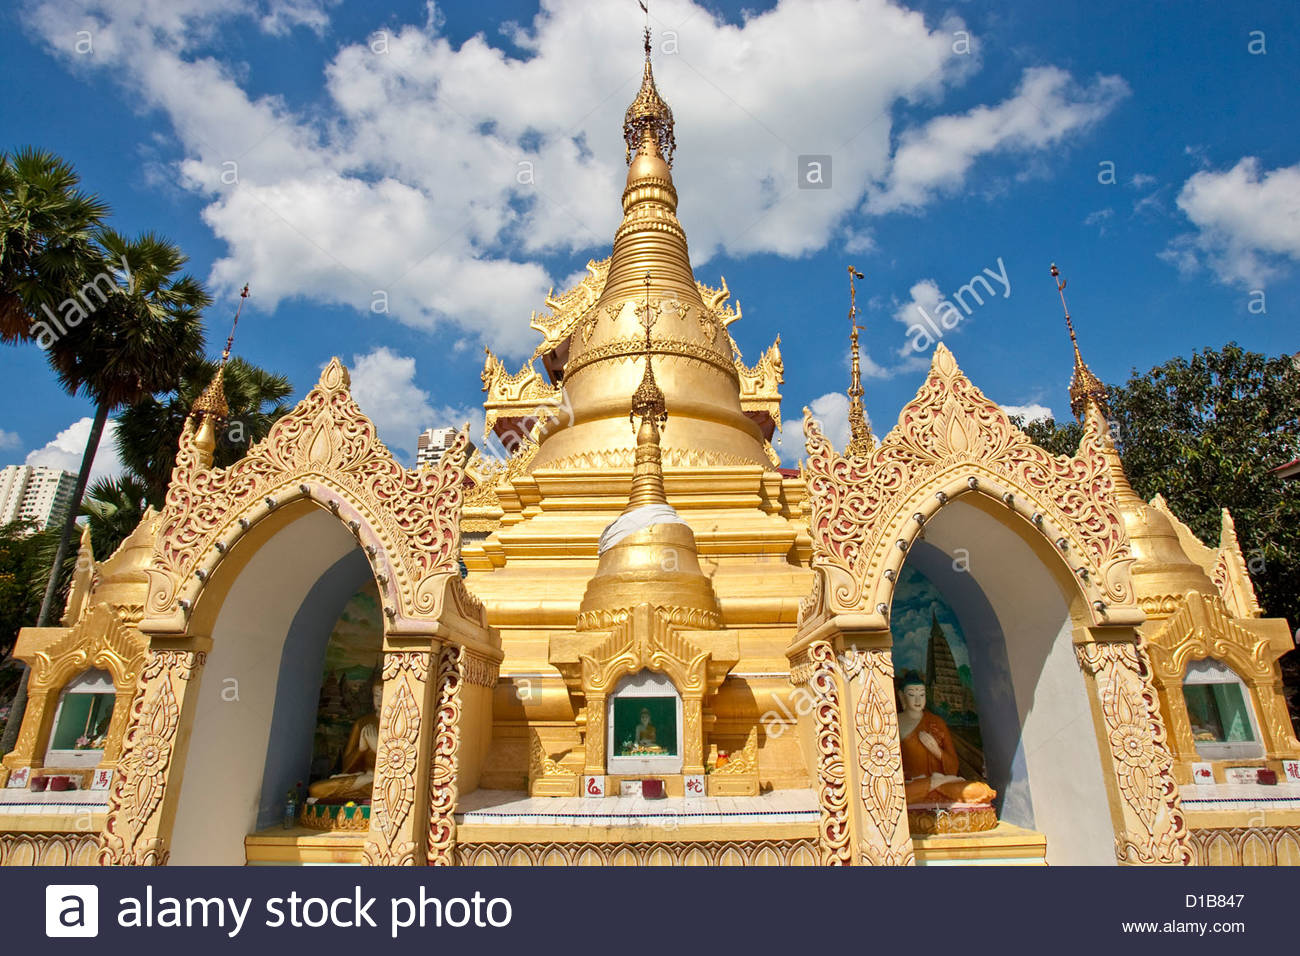Buddhist Temple: (96, 52, 1255, 848)
